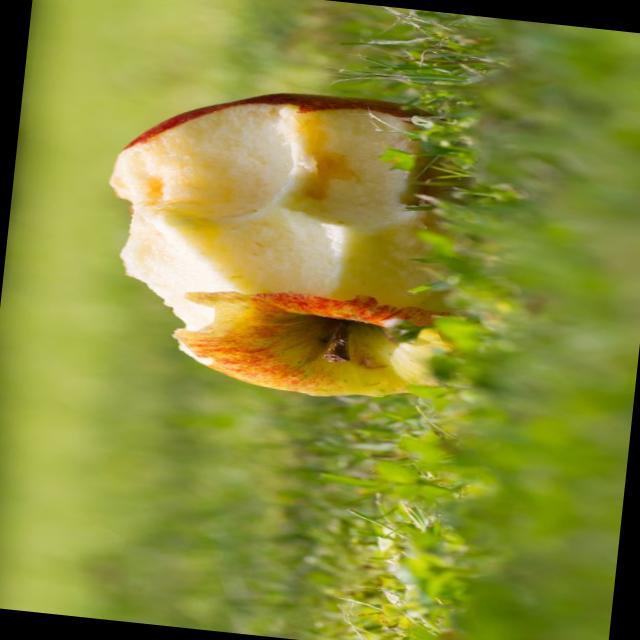apple_fruit: (88, 68, 498, 410)
